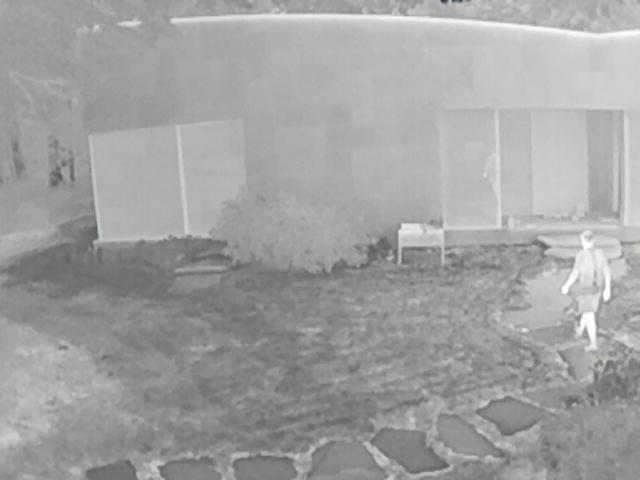person: (562, 230, 613, 352)
